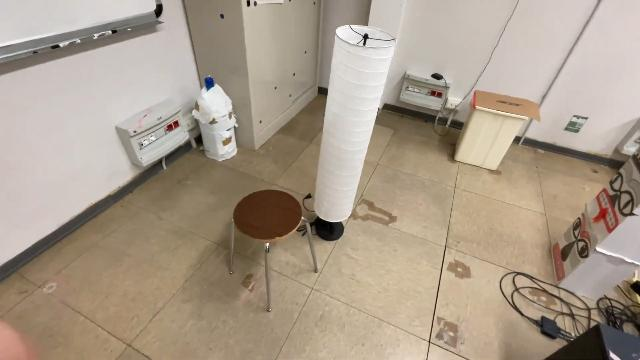Lamp: (309, 19, 399, 243)
Stool: (224, 184, 322, 318)
